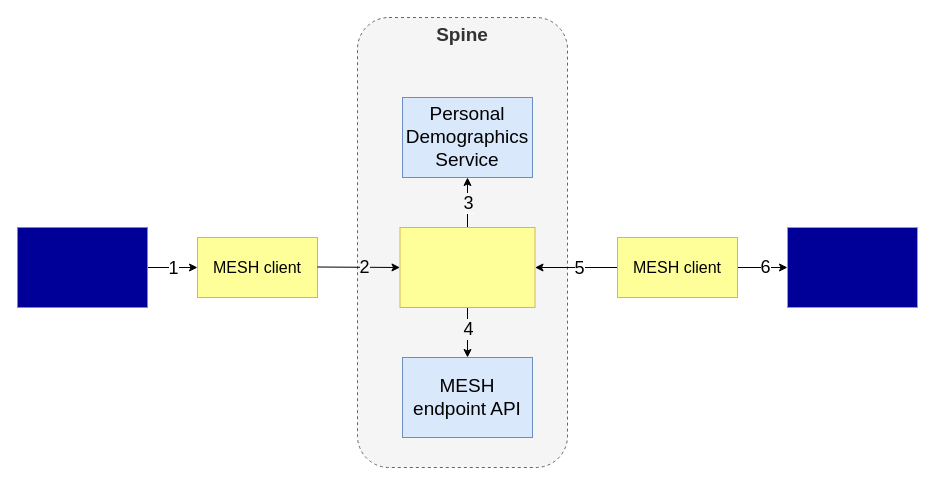
This 935x485 diagram has some shape labels left out. The shapes that lost their labels are listed below. From the top down, each one's centre as x and y in pixels, then its label:
At point (82, 267): "Sending system".
At point (467, 267): "MESH server".
At point (852, 267): "Receiving GP practice system".
